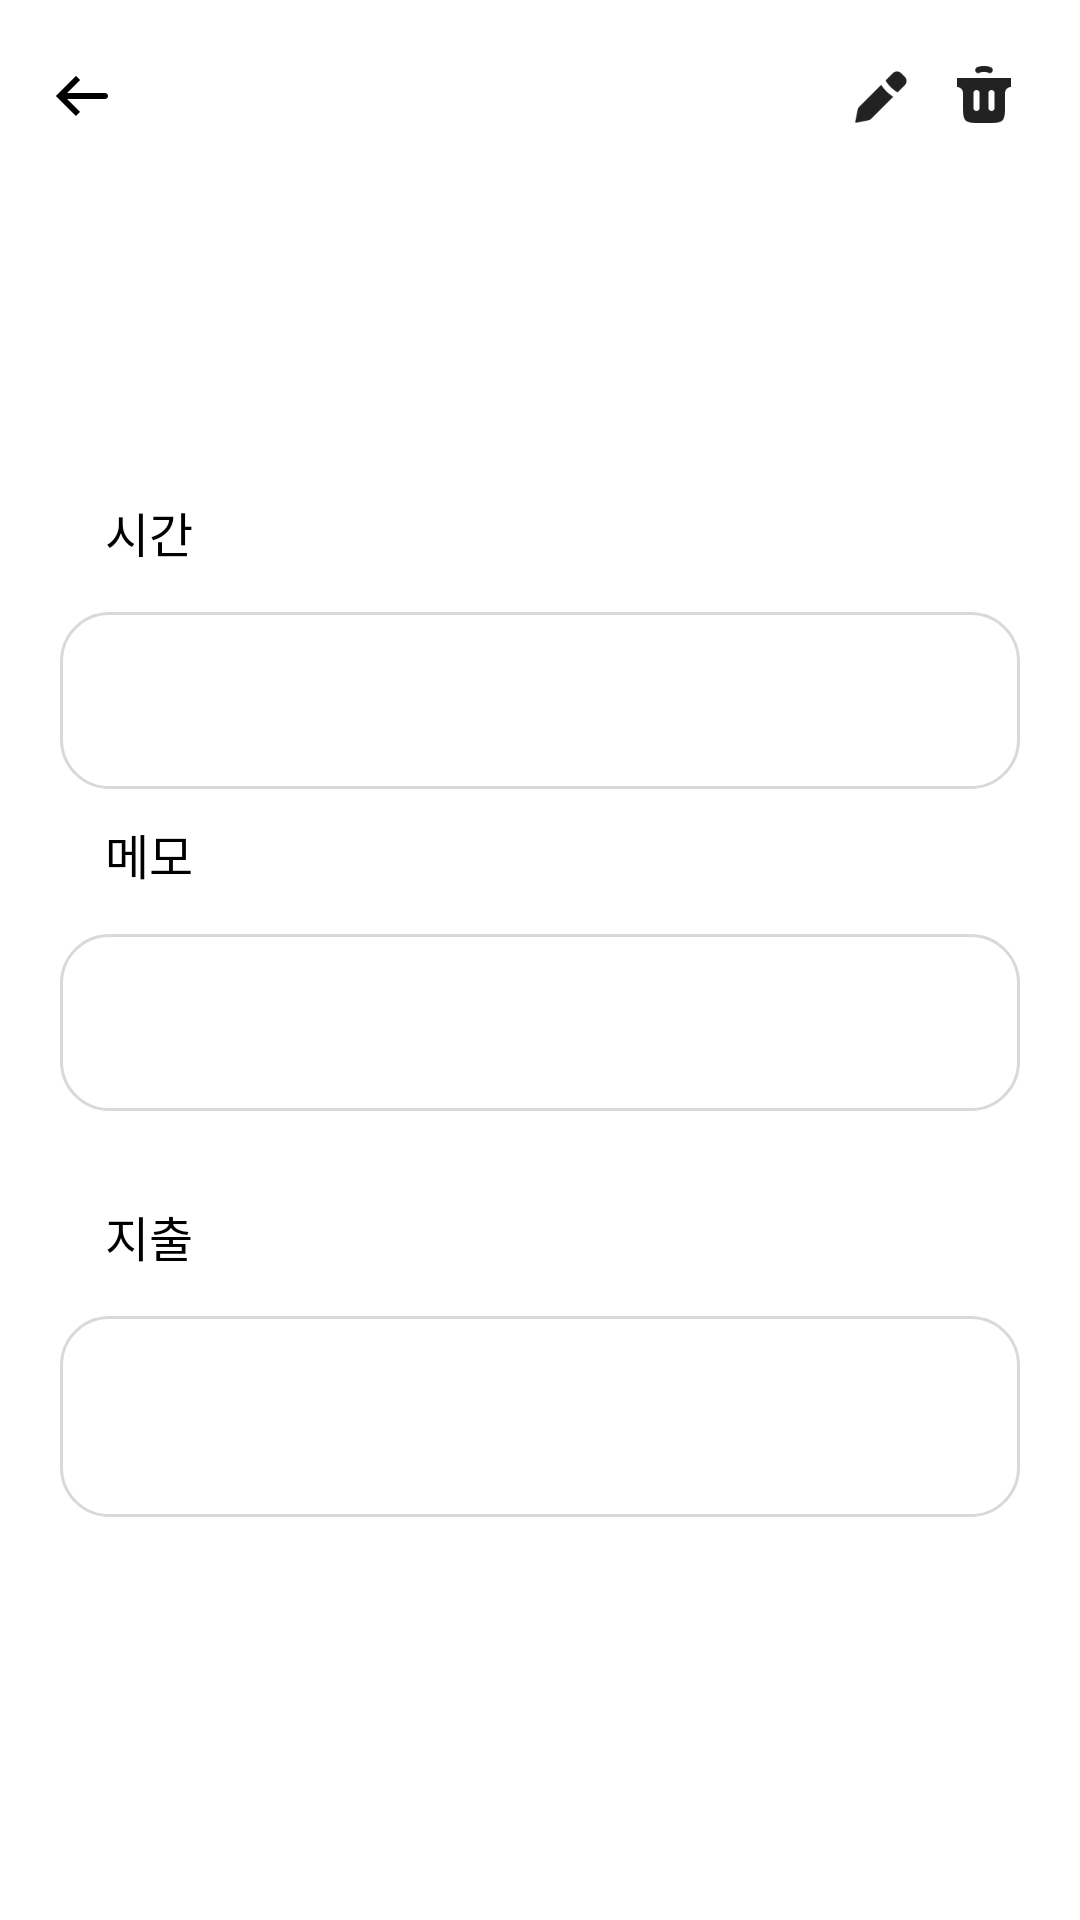

Icon bounding boxes for this 1080x1920 phone screenshot, format (x1, y1, x2, y2):
delete: (957, 66, 1011, 123)
edit: (855, 71, 907, 123)
